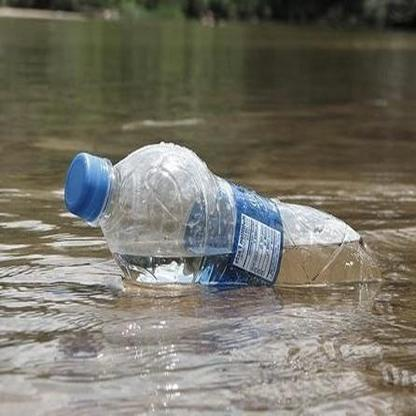plastic bottle: (63, 143, 359, 266)
